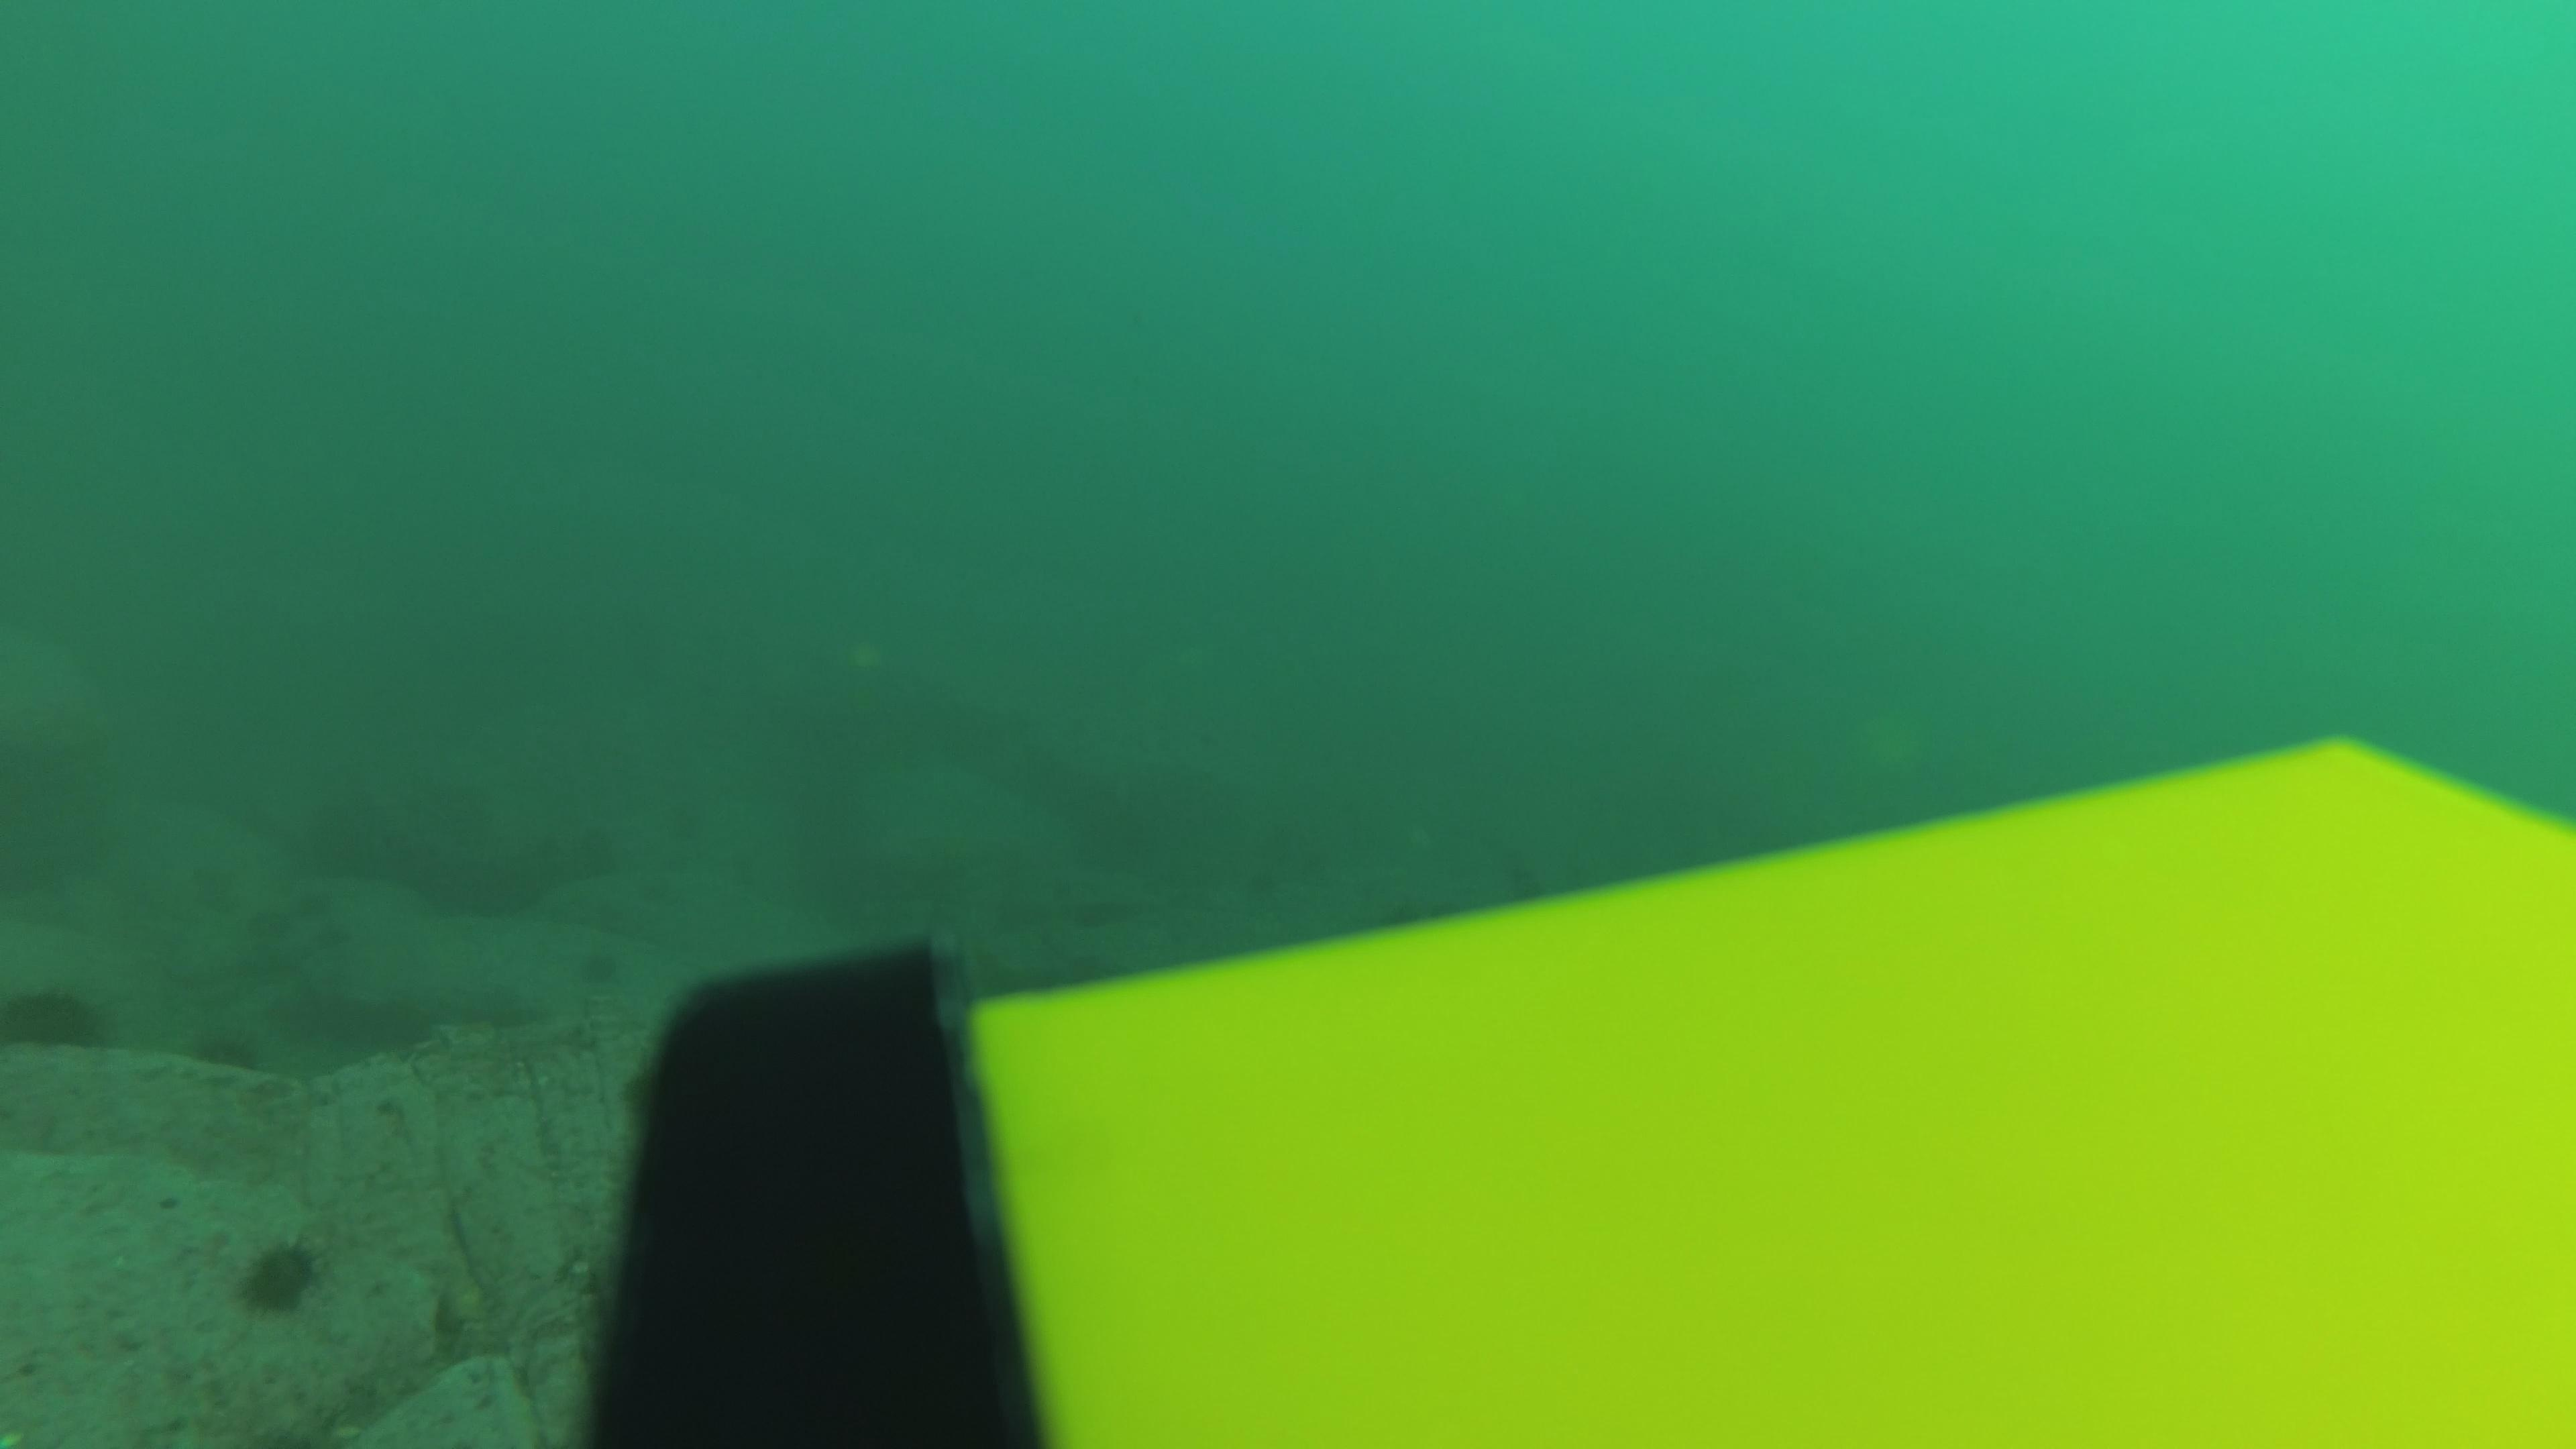echinus: (5, 975, 106, 1054), (234, 1233, 324, 1315), (465, 980, 538, 1033), (191, 1024, 258, 1072), (573, 943, 623, 991)
